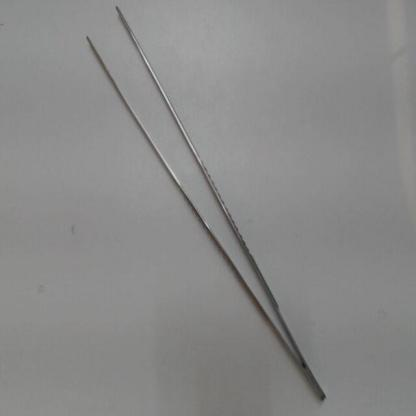DeBakey Dissector: (80, 1, 337, 412)
